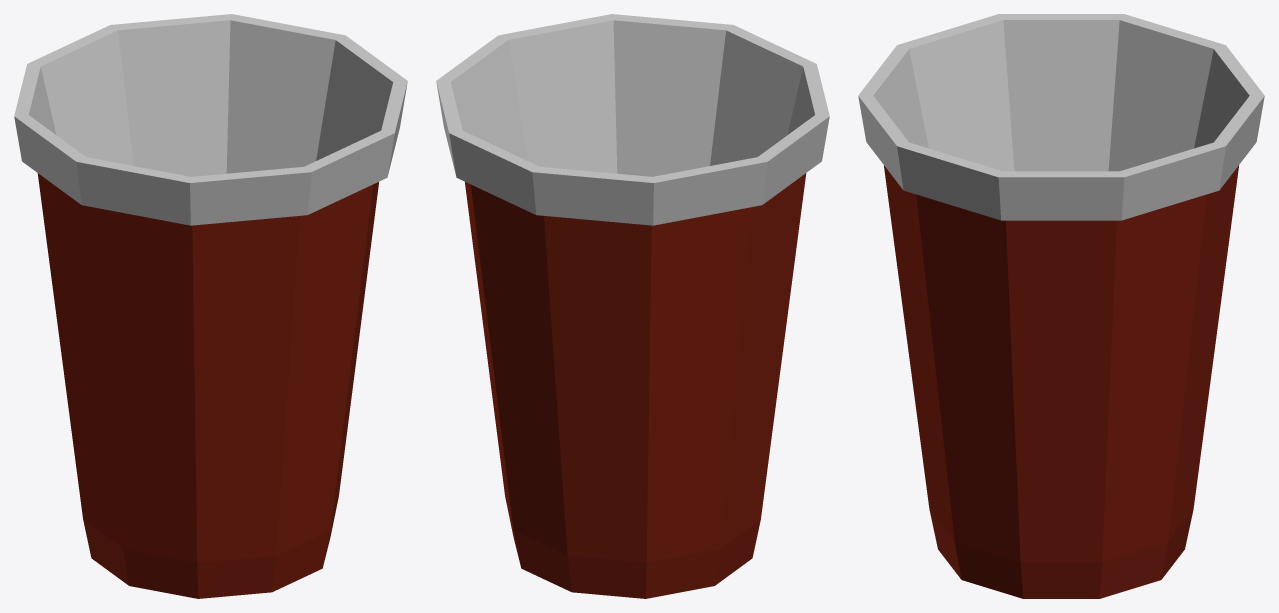
The model's file is PaperCupV1.fbx.
The picture shows the model from 3 angles, left to right: view 1: azimuth 30°, elevation 25°; view 2: azimuth 150°, elevation 25°; view 3: azimuth 270°, elevation 25°; orthographic projection.
Parts seen in each view (by area): view 1: PaperCupV1; view 2: PaperCupV1; view 3: PaperCupV1.
Boxes of the visible parts, left/top/right/bottom form: PaperCupV1: left=14, top=14, right=407, bottom=598; PaperCupV1: left=436, top=14, right=829, bottom=598; PaperCupV1: left=858, top=14, right=1264, bottom=598.
Bounding box in the file's own units: 14.38 × 18.61 × 15.12.
